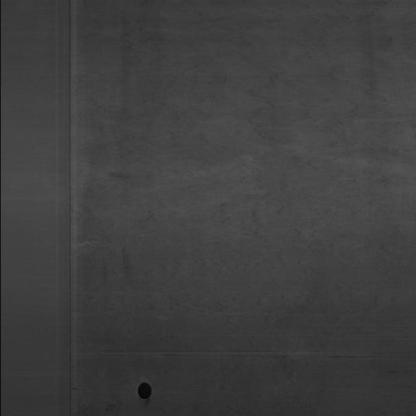punching_hole: (134, 381, 155, 403)
silk_spot: (103, 5, 403, 337)
welding_line: (48, 3, 88, 412)
